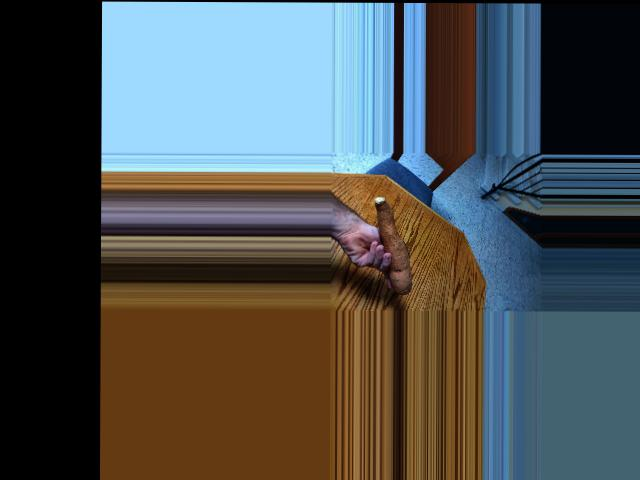sweet_potato: (370, 194, 416, 292)
